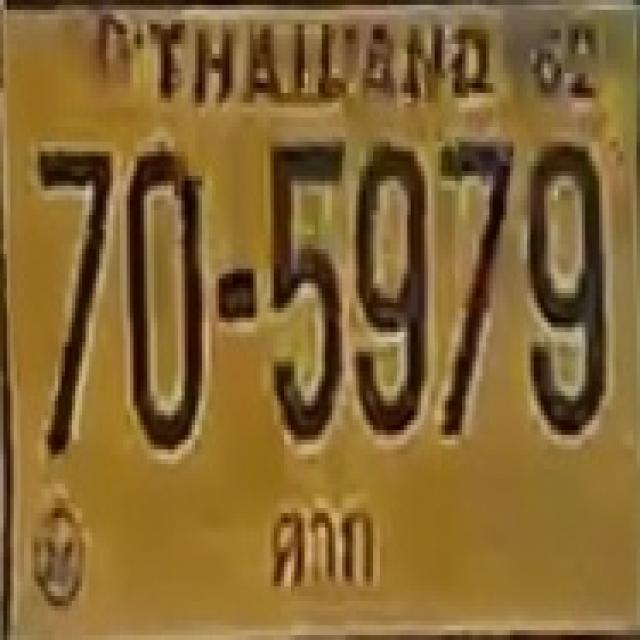TAK: (252, 482, 420, 615)
